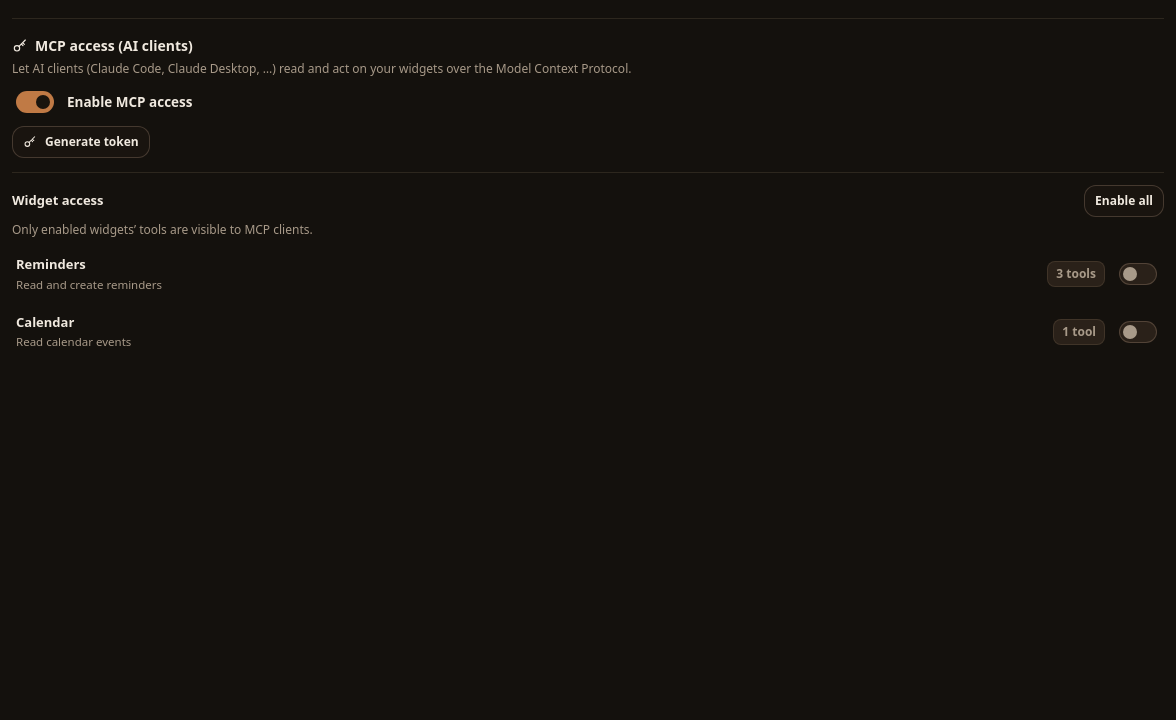
Test: McpSection › POSTs to /api/mcp/token and shows the token once after Generate
Step 1. Click the button "Generate token" → point(81, 142), box [12,126,150,158]
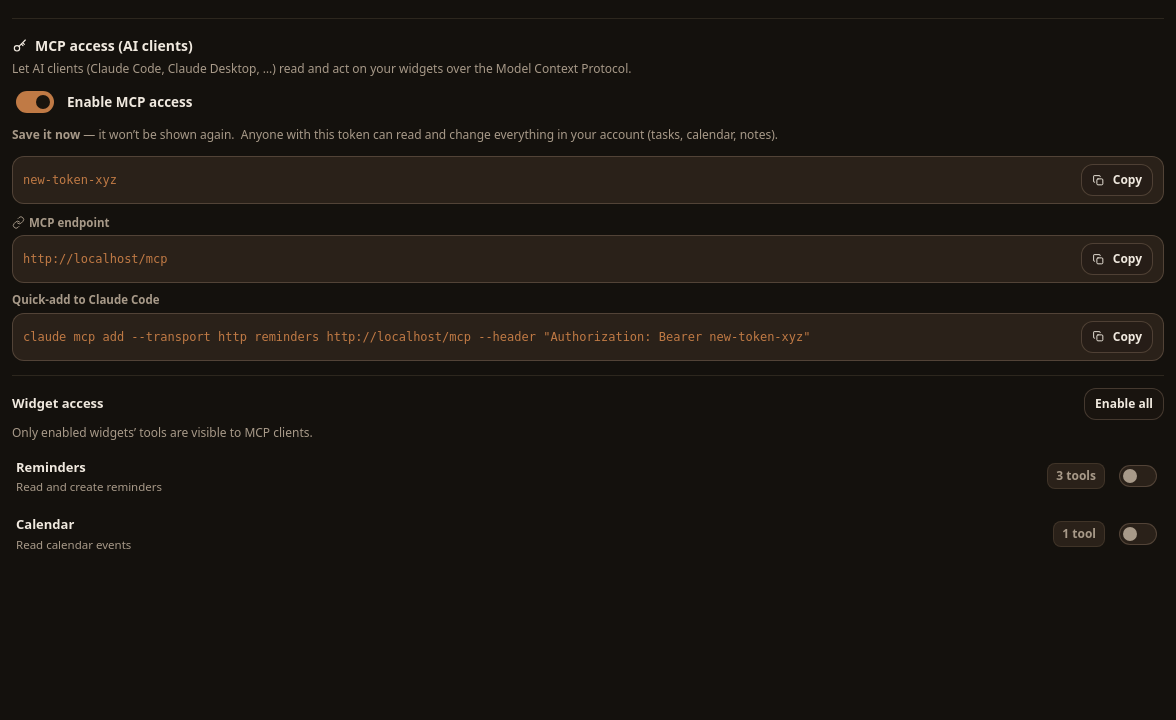
Expected: the text "new-token-xyz" is shown, [23,173,117,187]
Expected: the button with aria-label "copy token" is shown, [1081,164,1153,196]
Expected: the text "Save it now" is shown, [12,126,80,143]
